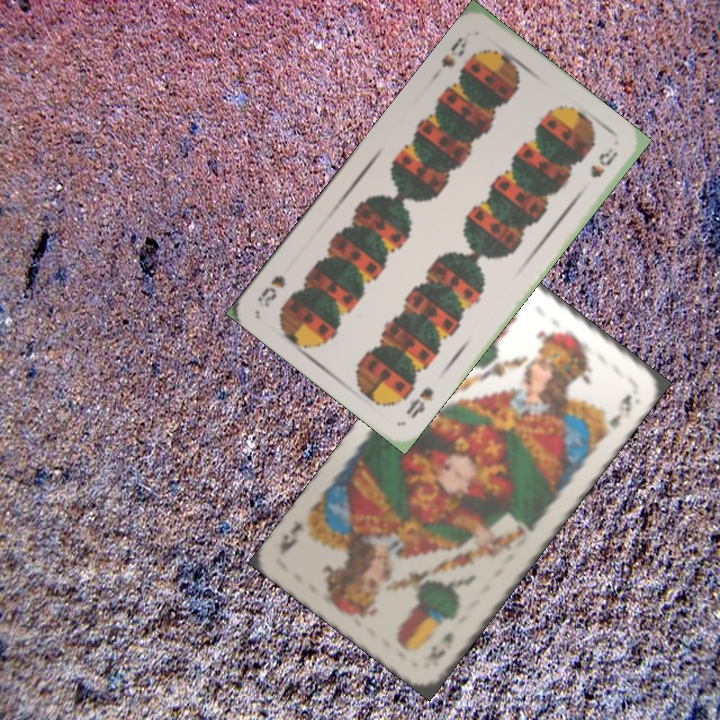EK: (424, 627, 456, 664)
S8: (436, 27, 476, 71), (402, 382, 437, 422)
